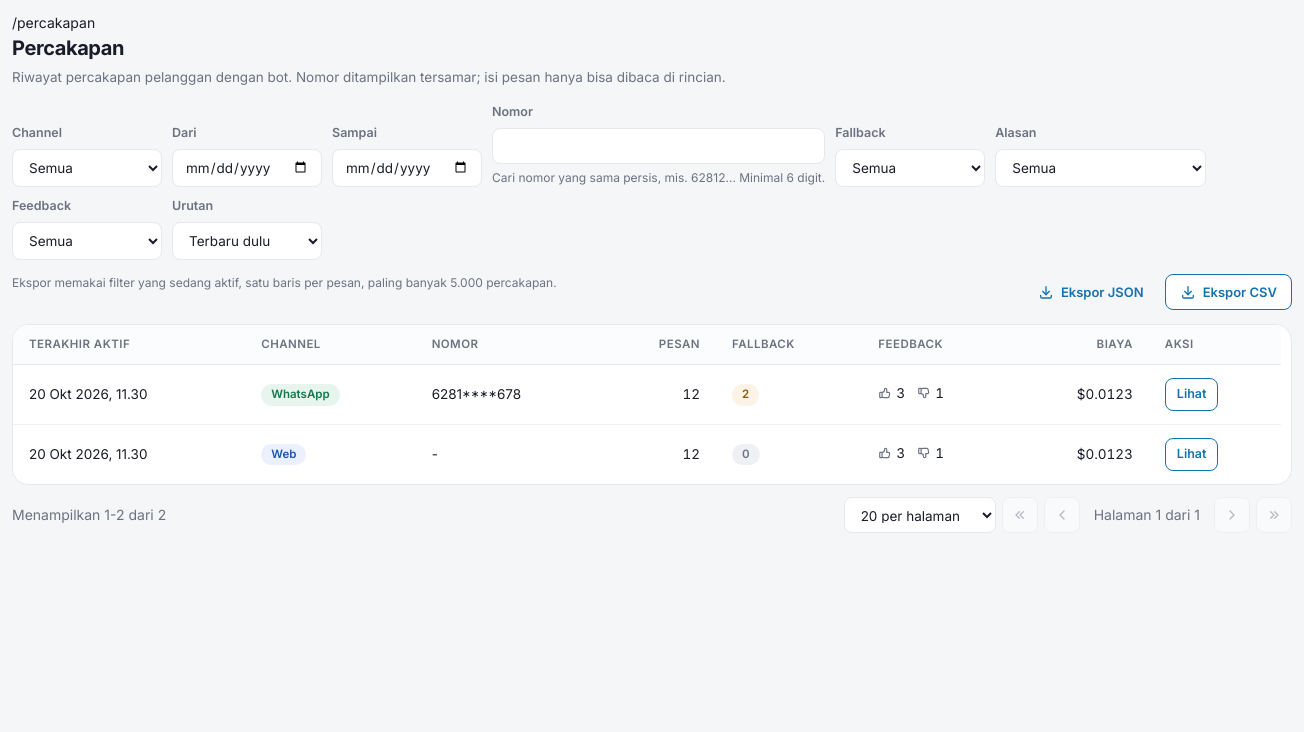
Test: Percakapan (daftar) › Reset Filter hanya muncul bila ada filter aktif, lalu membersihkan filter
Check: the table is shown, box [13,325,1281,484]
Check: the button "Reset Filter" is not shown
Step 1. Select "Web" in the dropdown labelled "Channel" → (87, 168), box [12,149,162,187]
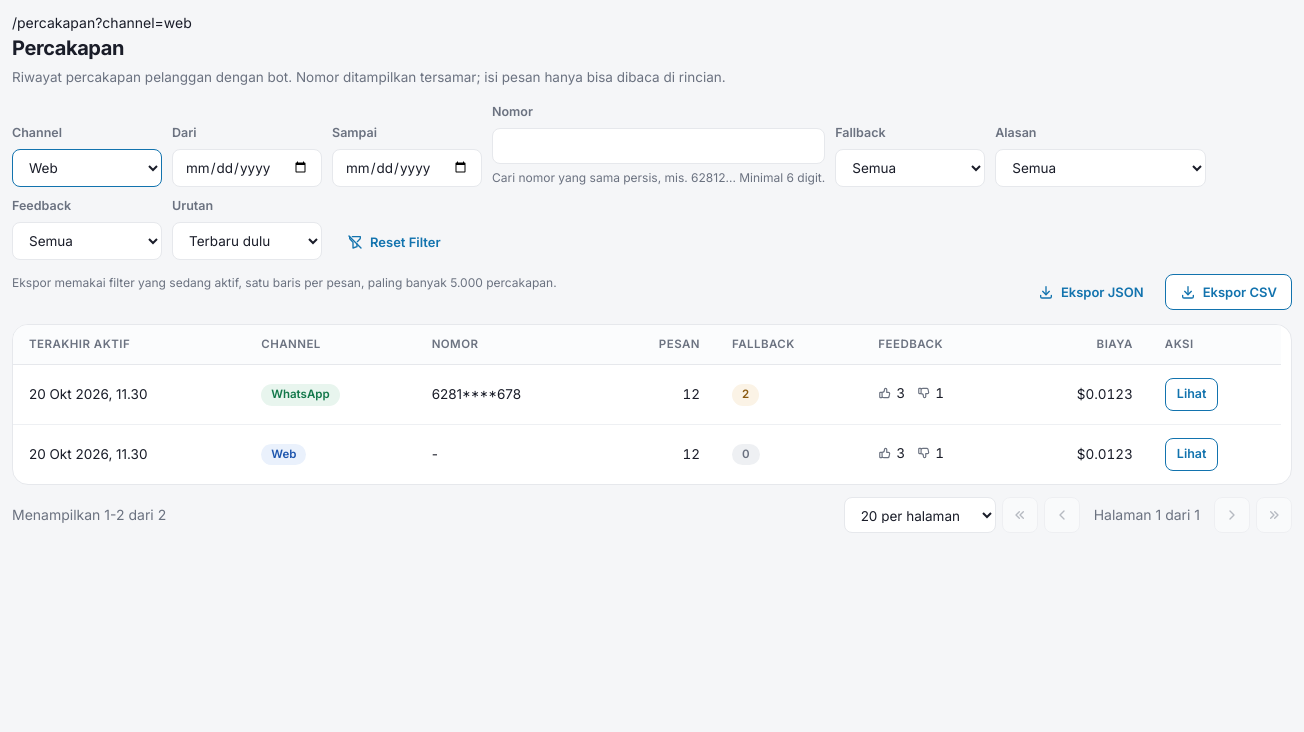
Step 2. Type "628123" into the field labelled "Nomor" → (659, 146), box [492,128,825,164]
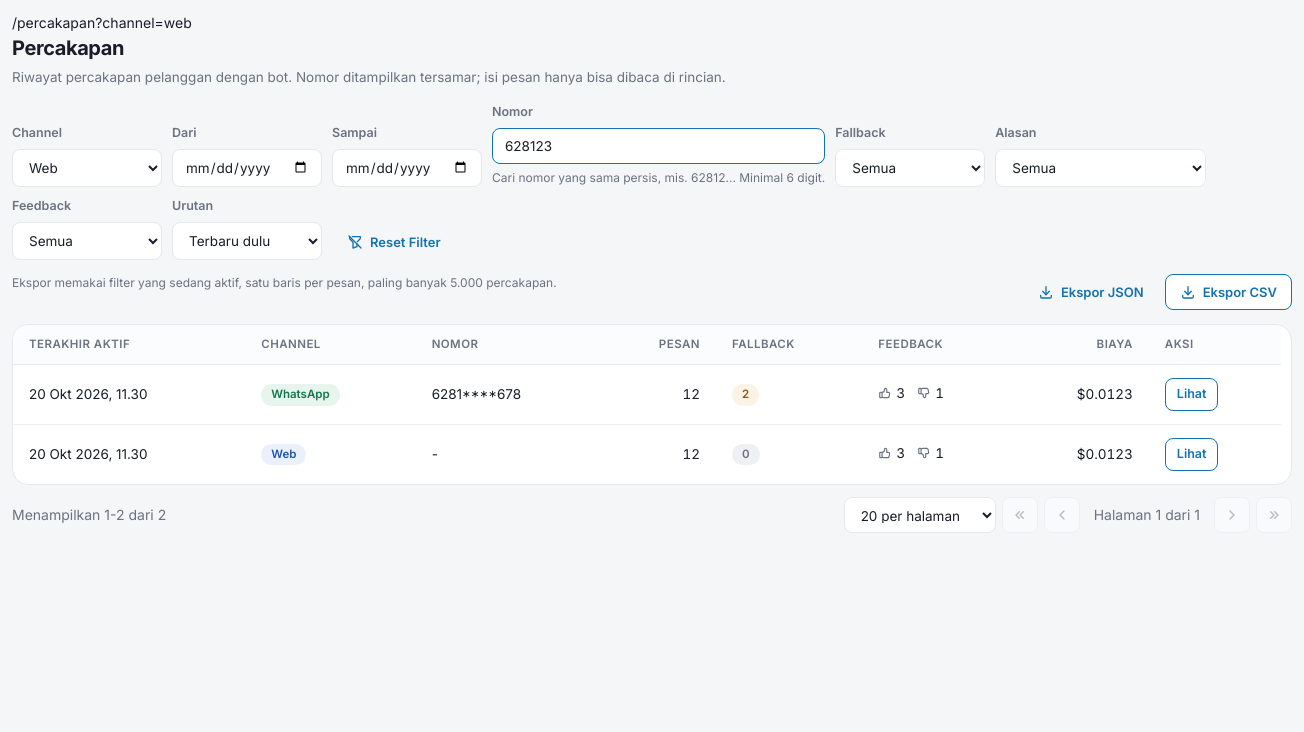
Step 3. Click the button "Reset Filter" → click(394, 242), box [332,224,456,260]
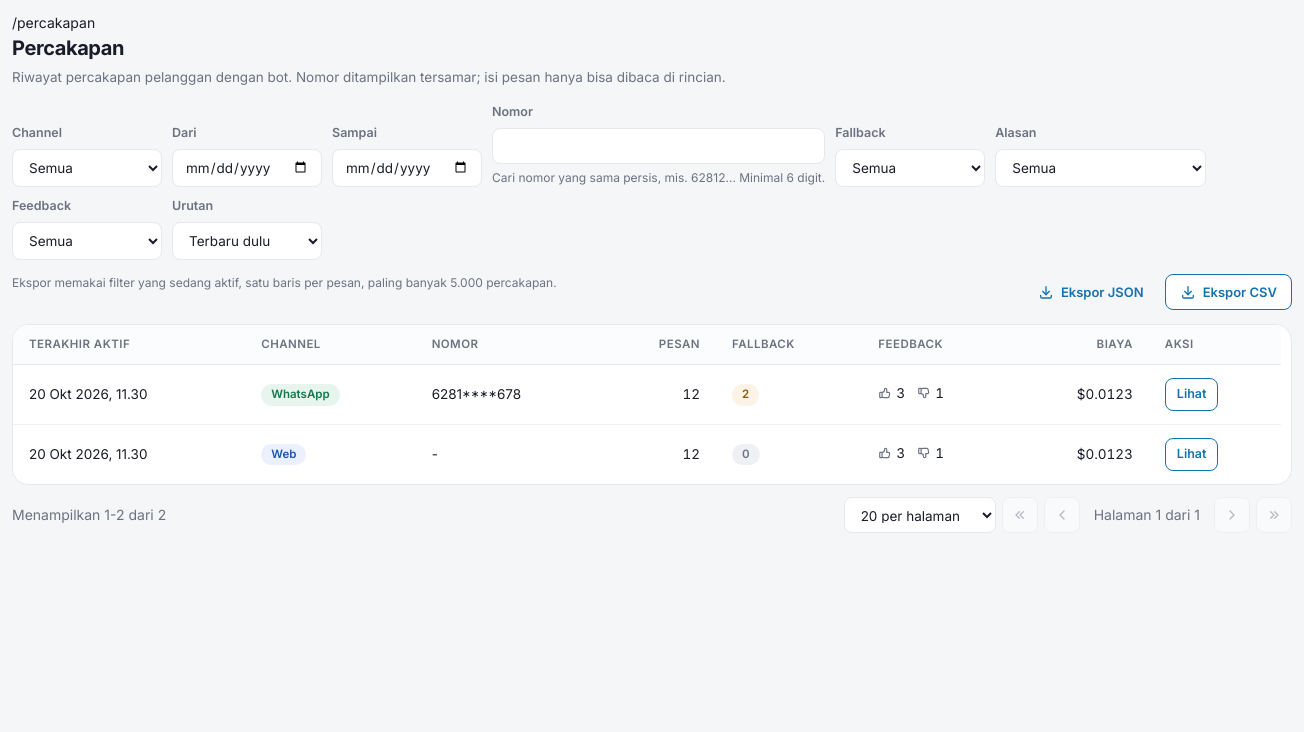
Check: the text with test id "loc" reads "/percakapan", box [12,14,95,31]
Check: the field labelled "Nomor" is empty, box [492,128,825,164]
Check: the button "Reset Filter" is gone
